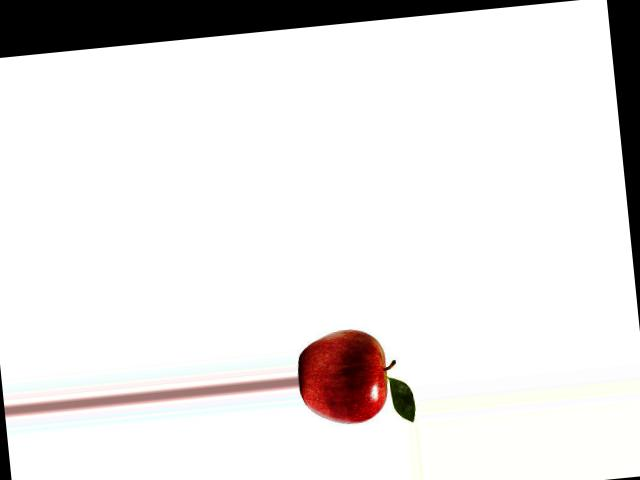apple: (293, 323, 397, 434)
